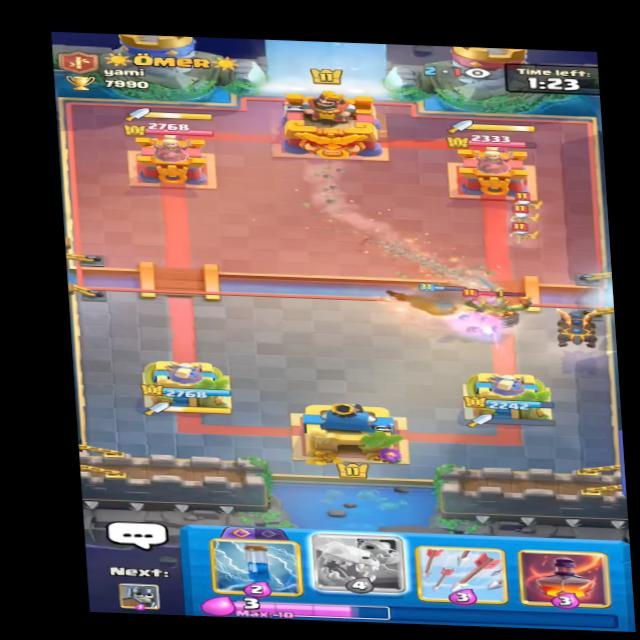goblin-demolisher: (443, 282, 544, 325)
skeleton: (502, 220, 535, 248), (508, 204, 538, 226), (512, 191, 540, 213)
trail: (376, 230, 497, 292)
